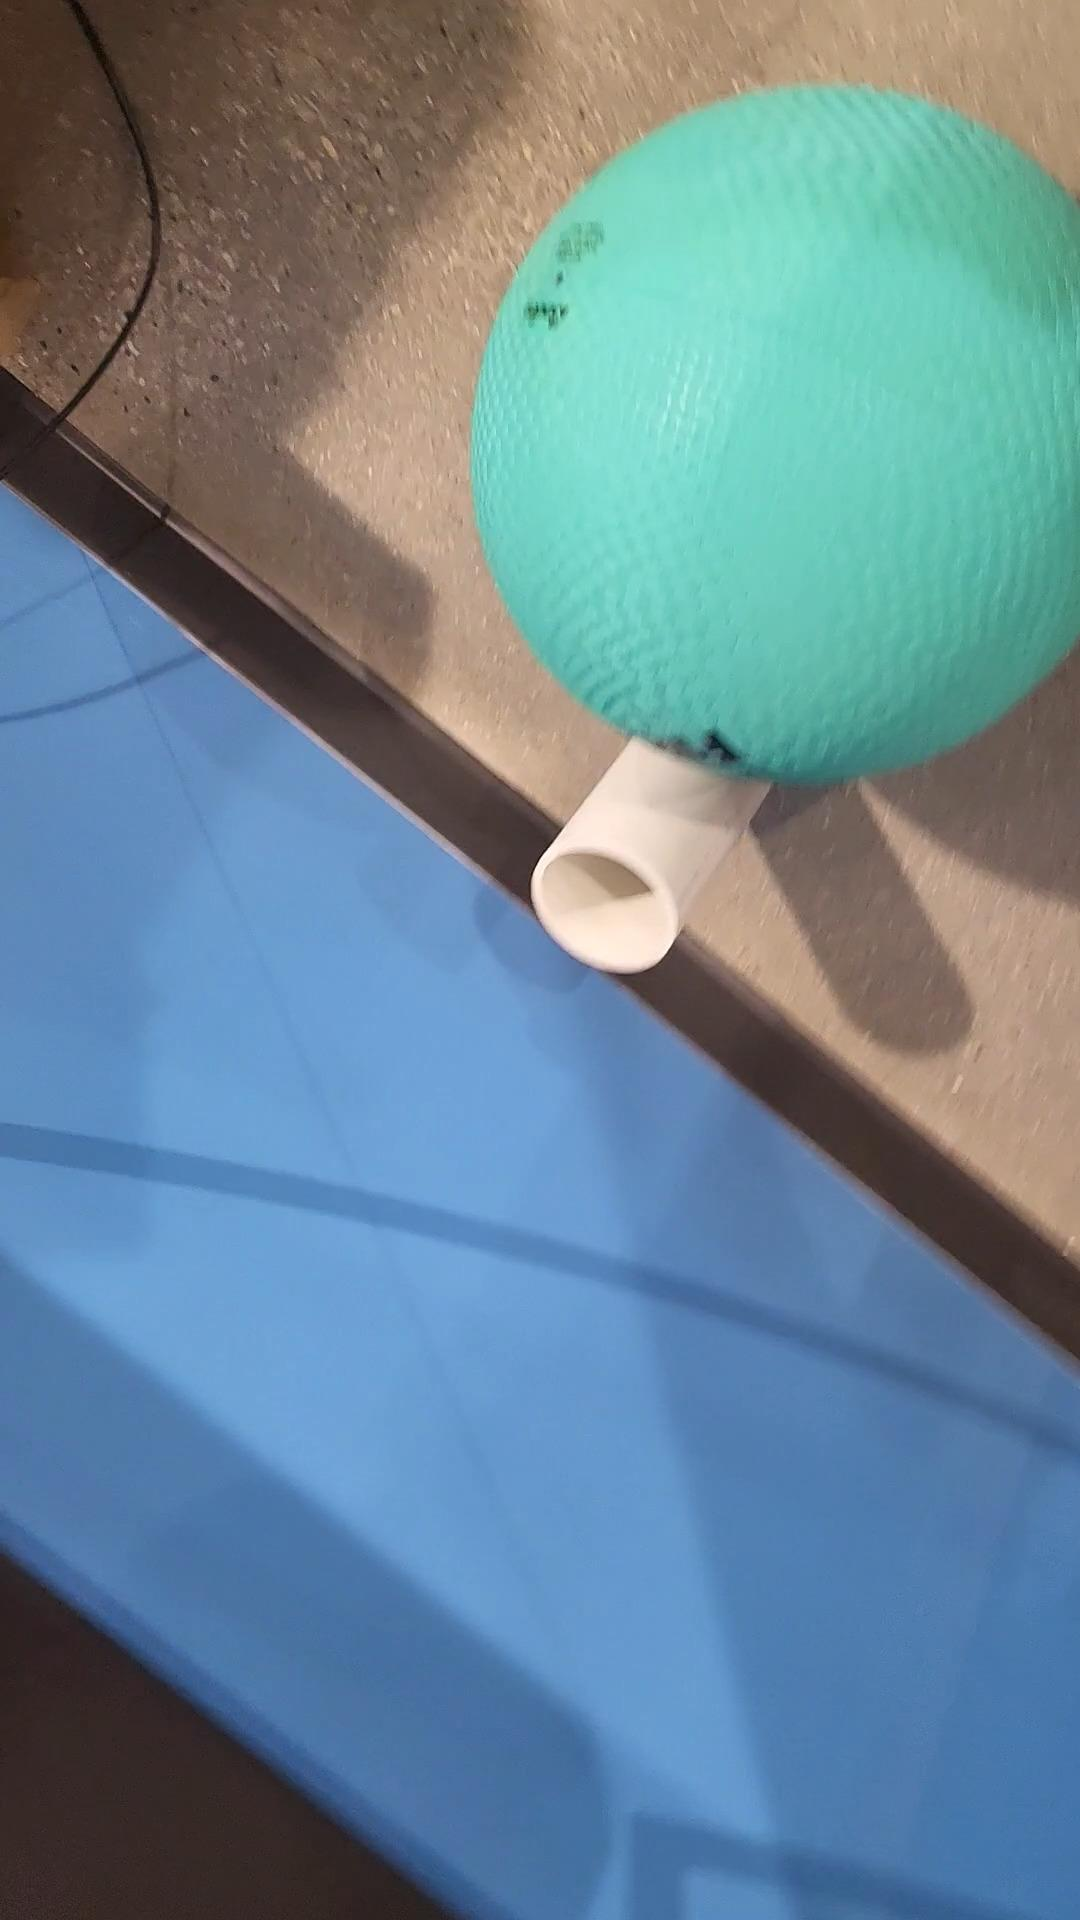algae: (472, 84, 1080, 781)
coral: (533, 728, 798, 968)
